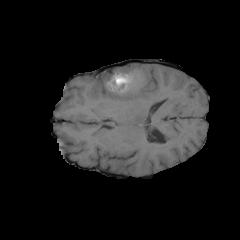glioma: (97, 66, 147, 122)
